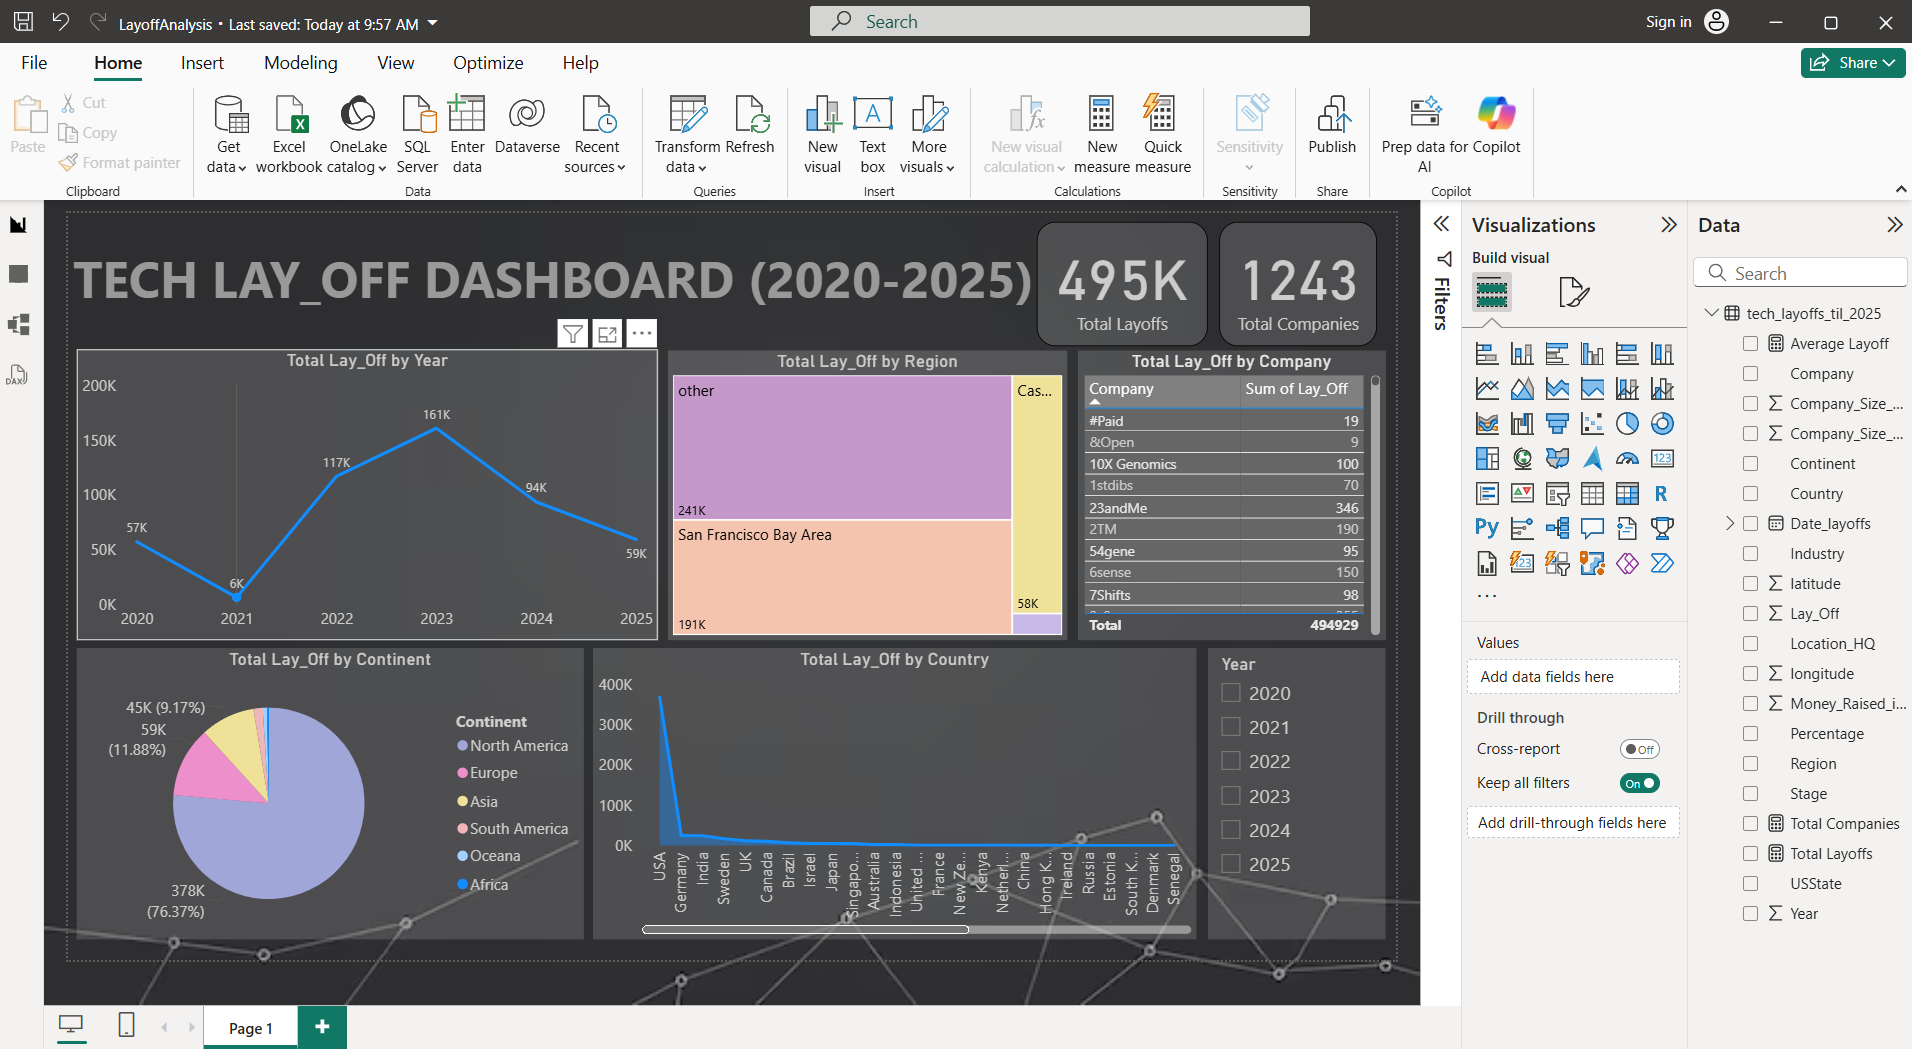

This screenshot's page, from the dashboard's own definition file:
{"tool":"powerbi","page":{"name":"Page 1","canvas":[1280,720],"ordinal":0},"visuals":[{"type":"lineChart","title":"Total Lay_Off by Year","fields":{"Category":["tech_layoffs_til_2025.Year"],"Y":["Sum(tech_layoffs_til_2025.Lay_Off)"]},"box":[8.1,131.4,560.5,280.2],"z":0},{"type":"pieChart","title":"Total Lay_Off by Continent","fields":{"Y":["Sum(tech_layoffs_til_2025.Lay_Off)"],"Category":["tech_layoffs_til_2025.Continent"]},"box":[8,419.3,488.6,280.7],"z":1000},{"type":"areaChart","title":"Total  Lay_Off by Country","fields":{"Category":["tech_layoffs_til_2025.Country"],"Y":["Sum(tech_layoffs_til_2025.Lay_Off)"]},"box":[505.7,419.3,581.8,280.7],"z":2000},{"type":"slicer","fields":{"Values":["tech_layoffs_til_2025.Year"]},"box":[1098.8,419.3,171.1,280.7],"z":3000},{"type":"card","fields":{"Values":["tech_layoffs_til_2025.Total Layoffs"]},"box":[933.7,8.1,165.1,119.8],"z":4000},{"type":"card","fields":{"Values":["tech_layoffs_til_2025.Total Companies"]},"box":[1109.3,8.1,152.3,119.8],"z":5000},{"type":"treemap","title":"Total Lay_Off by Region","fields":{"Group":["tech_layoffs_til_2025.Region"],"Values":["Sum(tech_layoffs_til_2025.Lay_Off)"]},"box":[577.9,132.6,384.9,279.1],"z":6000},{"type":"textbox","box":[0,25.6,1012.8,87.2],"z":7000},{"type":"tableEx","title":"Total Lay_Off by Company","fields":{"Values":["tech_layoffs_til_2025.Company","Sum(tech_layoffs_til_2025.Lay_Off)"]},"box":[973.3,132.6,296.5,279.1],"z":8000}]}

Visuals, with their boxes in screenshot pixels (x1, y1, x2, y2):
"Total Lay_Off by Year" lineChart: box=[42, 194, 848, 597]
"Total Lay_Off by Continent" pieChart: box=[41, 608, 744, 1012]
"Total  Lay_Off by Country" areaChart: box=[758, 608, 1595, 1012]
slicer - tech_layoffs_til_2025.Year: box=[1611, 608, 1857, 1012]
card - tech_layoffs_til_2025.Total Layoffs: box=[1373, 17, 1611, 189]
card - tech_layoffs_til_2025.Total Companies: box=[1626, 17, 1845, 189]
"Total Lay_Off by Region" treemap: box=[861, 196, 1415, 597]
textbox: box=[30, 42, 1487, 167]
"Total Lay_Off by Company" tableEx: box=[1430, 196, 1857, 597]
